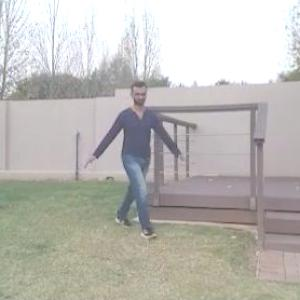land: (81, 70, 189, 256)
